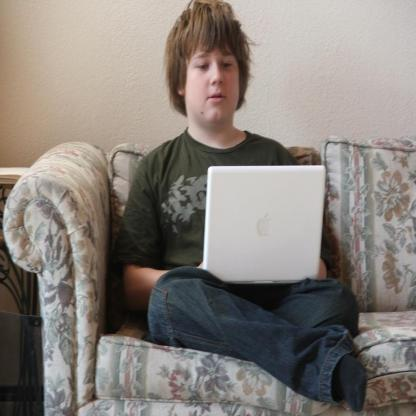board: (196, 162, 331, 294)
